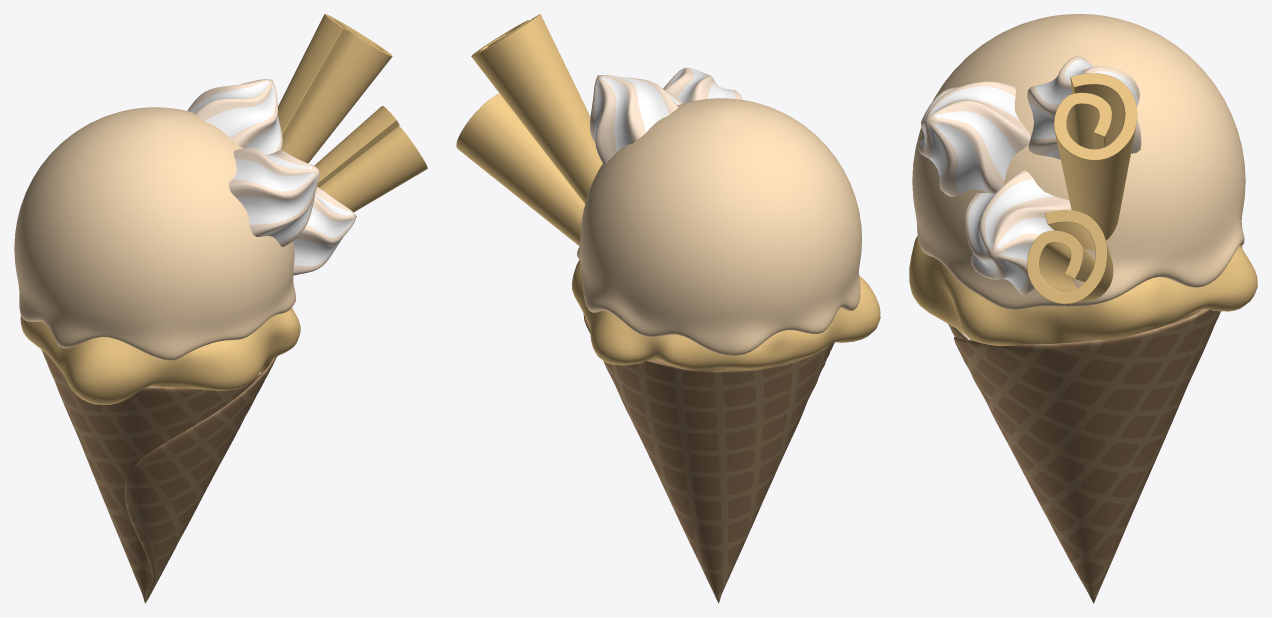
File: Project Name.gltf
3 renders of one model, left to right at view 1: azimuth 30°, elevation 25°; view 2: azimuth 150°, elevation 25°; view 3: azimuth 270°, elevation 25°, orthographic. The views are drawn at different scales.
Visible parts, largest first — view 1: Ice Cream, Cone, Cinamon, Ice cream, Cream2, Cream1; view 2: Ice Cream, Cone, Cinamon, Ice cream, Cream1, Cream2; view 3: Ice Cream, Cone, Cinamon, Ice cream, Cream2, Cream1.
Part boxes in pixels (x1,y1,x2,y2): Ice Cream: (14,107,295,360); Cone: (41,349,276,603); Cinamon: (278,14,427,212); Ice cream: (20,307,300,404); Cream2: (190,79,353,265); Cream1: (187,79,356,275); Ice Cream: (577,98,861,355); Cone: (583,314,834,603); Cinamon: (456,14,602,245); Ice cream: (572,260,880,371); Cream1: (590,67,742,164); Cream2: (594,67,734,151); Ice Cream: (912,14,1245,310); Cone: (948,308,1220,603); Cinamon: (1027,73,1137,304); Ice cream: (909,236,1257,345); Cream2: (920,59,1138,290); Cream1: (918,56,1141,295).
Size of the model in its own units: 0.1301 by 0.1746 by 0.0865.
Materials: 6 (1 with a texture image).
